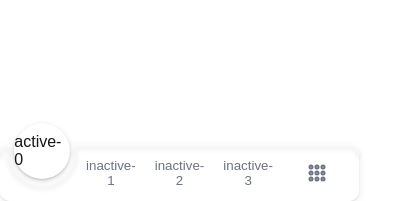
NotchNavbar — More button with notch › clicking More then closing (toggle) reverts notch — previous tab active again
What coordinates should you click on to do the following:
click the tab named "More"
I would click on:
 (317, 173)
Its box is [282,145,351,200].
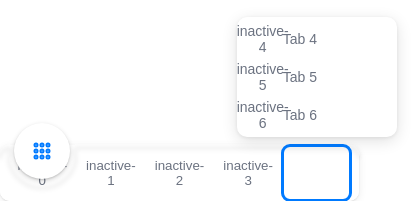
Check: the menu is shown, box [237,17,397,137]
What coordinates should you click on to do the following:
click the tab named "More"
I would click on:
 (317, 173)
Its box is [282,145,351,200].
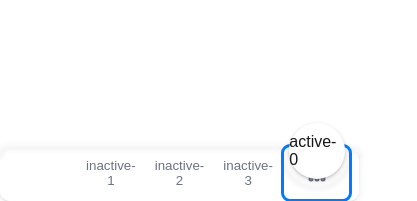
Check: the menu is gone
